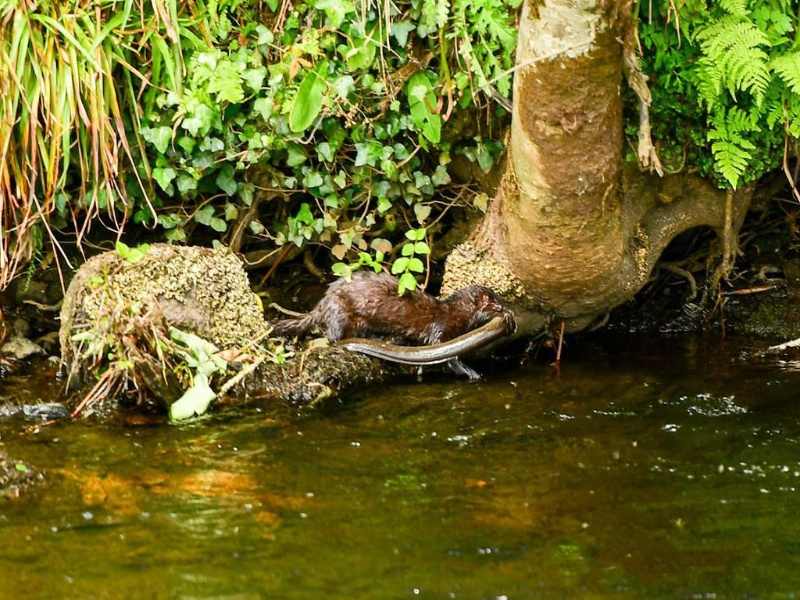minkish: (266, 273, 517, 387)
